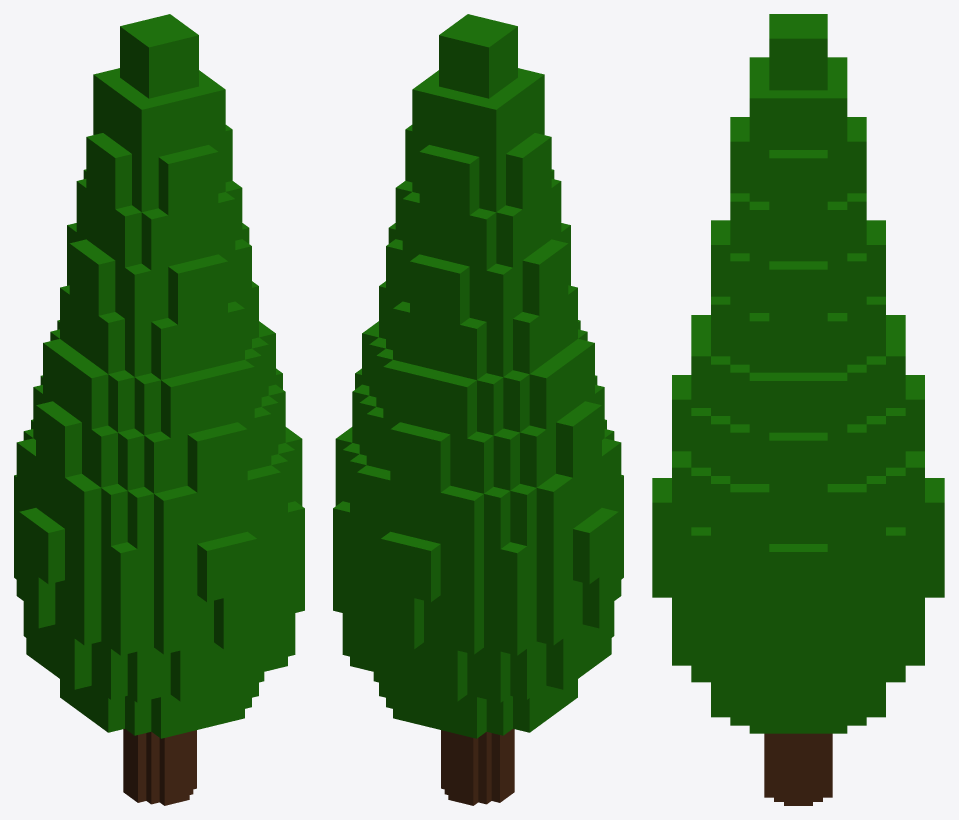
Rendered from arbre3.fbx.
3 renders of one model, left to right at view 1: azimuth 30°, elevation 25°; view 2: azimuth 150°, elevation 25°; view 3: azimuth 270°, elevation 25°, orthographic.
Visible parts, largest first — view 1: Cylinder.002; view 2: Cylinder.002; view 3: Cylinder.002.
Part boxes in pixels (x1=…): Cylinder.002: x1=14, y1=14, x2=304, y2=805; Cylinder.002: x1=333, y1=14, x2=623, y2=805; Cylinder.002: x1=652, y1=14, x2=944, y2=805.
Size of the model in its own units: 248 by 717 by 248.
